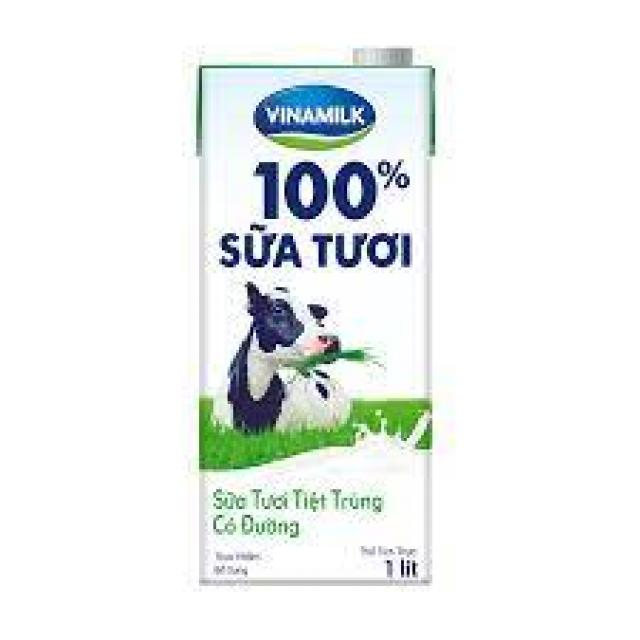non_white_jug: (145, 30, 444, 561)
